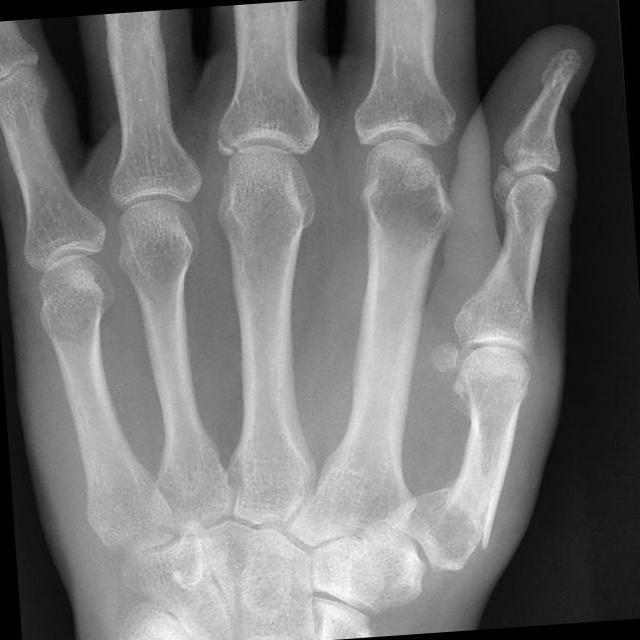Transverse Displaced: (433, 464, 523, 562)
